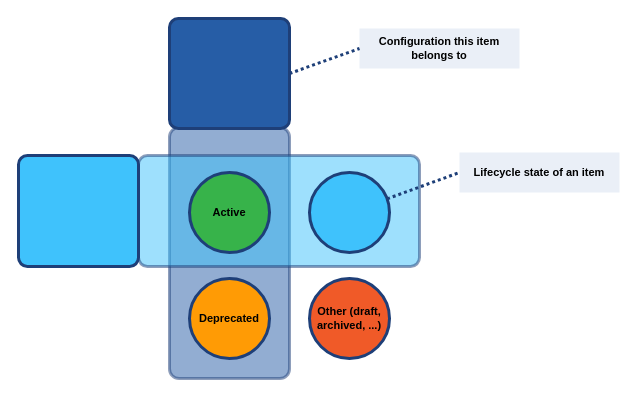
Some shapes in this 637 by 397 pixel diagram are drawn without their labels. The centre of each missing label's shape, as x and y in pixels:
"Development Configuration" goes at point 78,211.
"Production Configuration" goes at point 229,73.
"Proposed" goes at point 349,212.
